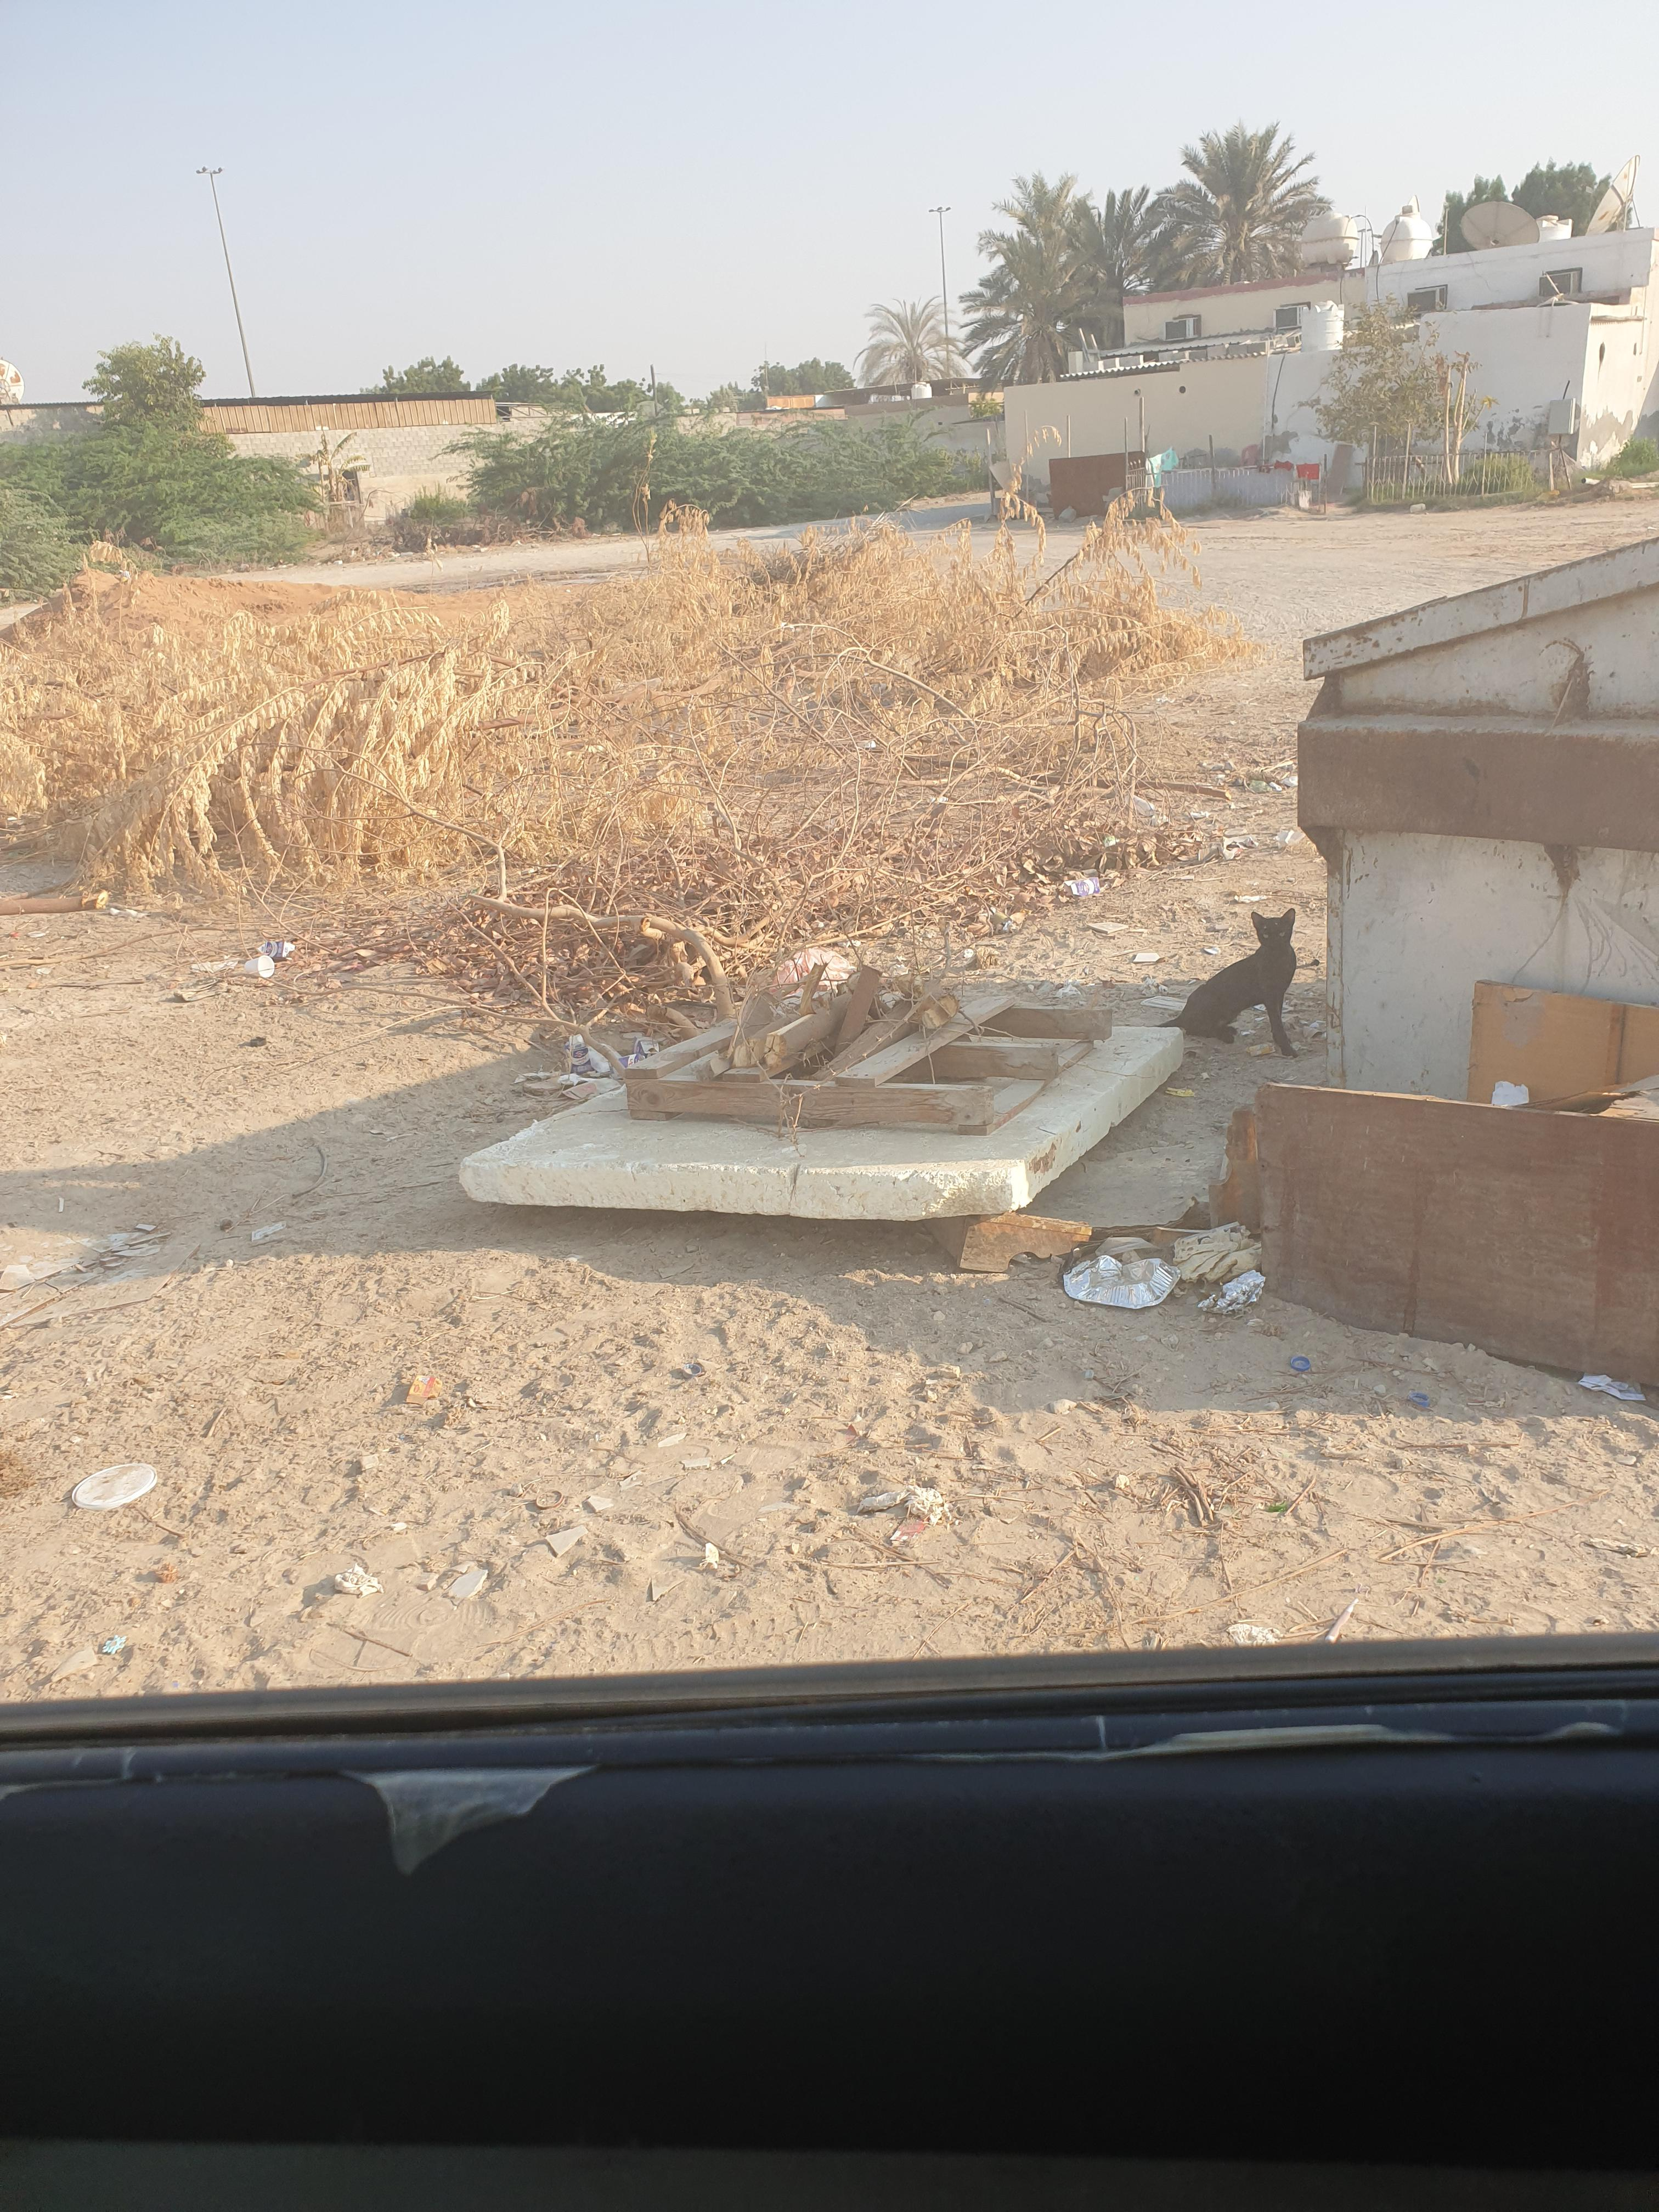fallen_trees: (59, 568, 1086, 1001), (234, 867, 756, 1008)
uncollected_waste: (1229, 1097, 1659, 1420), (474, 1092, 1133, 1294)
